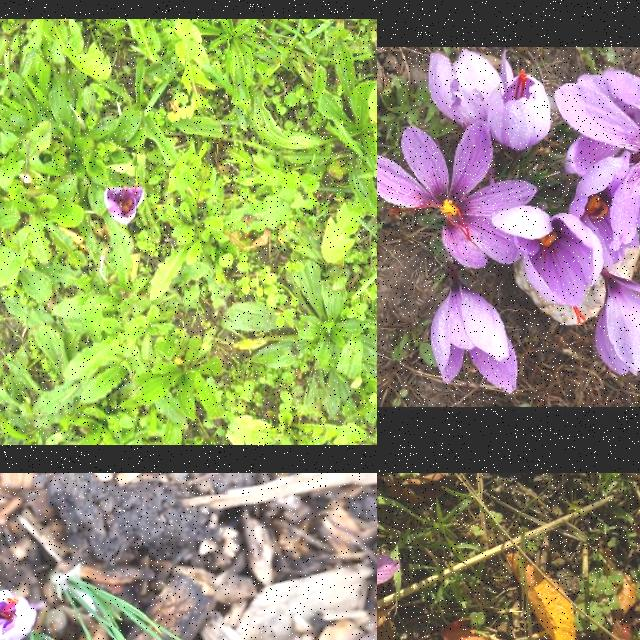flower: (377, 119, 538, 269), (493, 207, 605, 327), (429, 284, 519, 394), (428, 50, 514, 126), (488, 71, 552, 149), (594, 272, 640, 377), (0, 589, 36, 640), (104, 183, 146, 225)
overlap: (554, 71, 640, 267)
